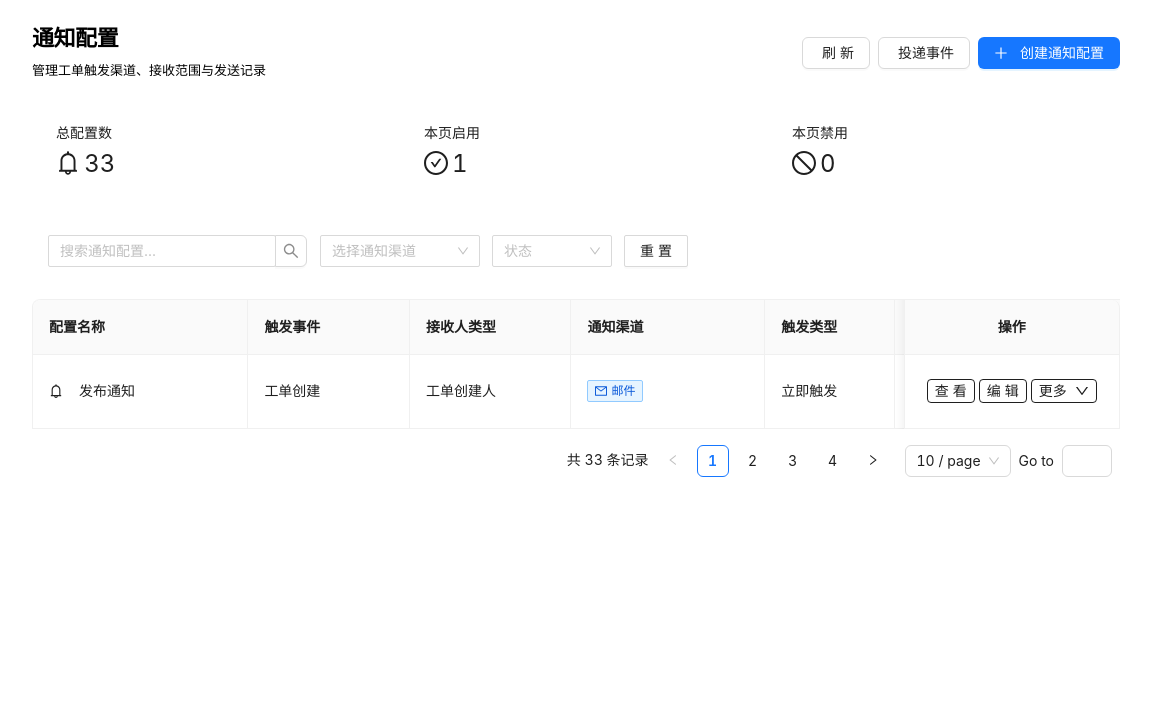
it: 通知配置真实控件 › 查询失败清旧数据并从页面重试恢复
The width and height of the screenshot is (1164, 720).
Click the button without text next to "选择通知渠道" at (291, 251), box [275,235,307,267]
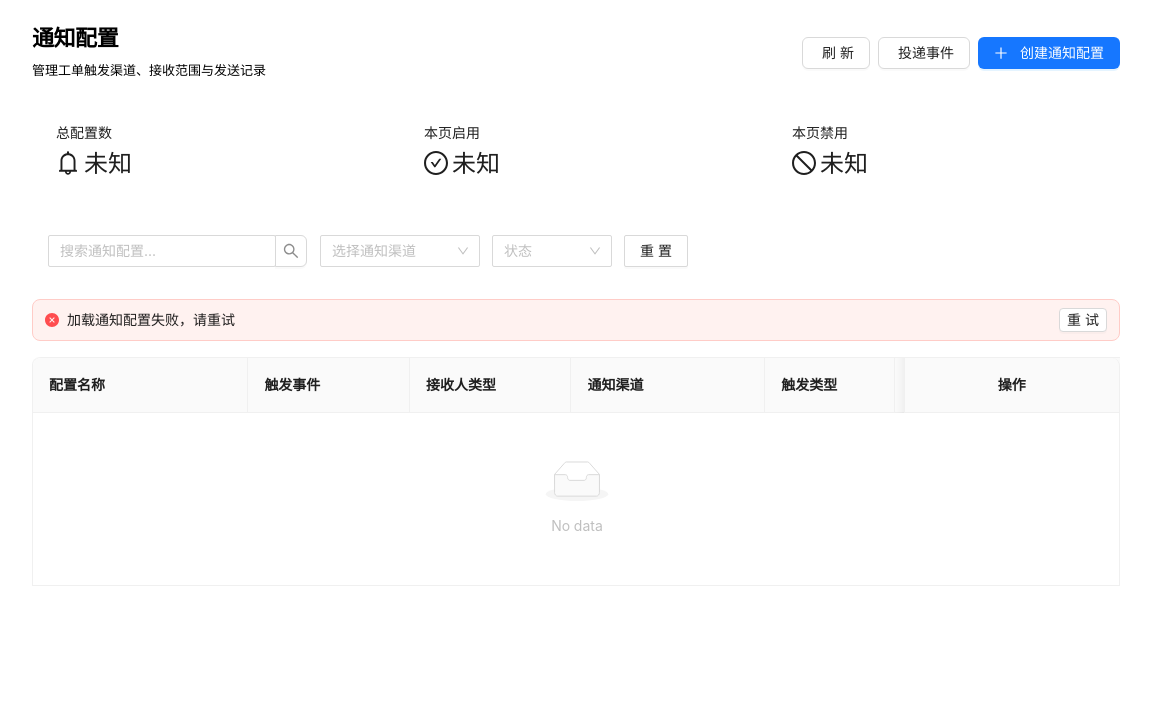
Expected: the message "加载通知配置失败，请重试 重 试" is shown, [32,299,1120,341]
Click the button "重 试" at (1083, 320), box [1059,308,1107,332]
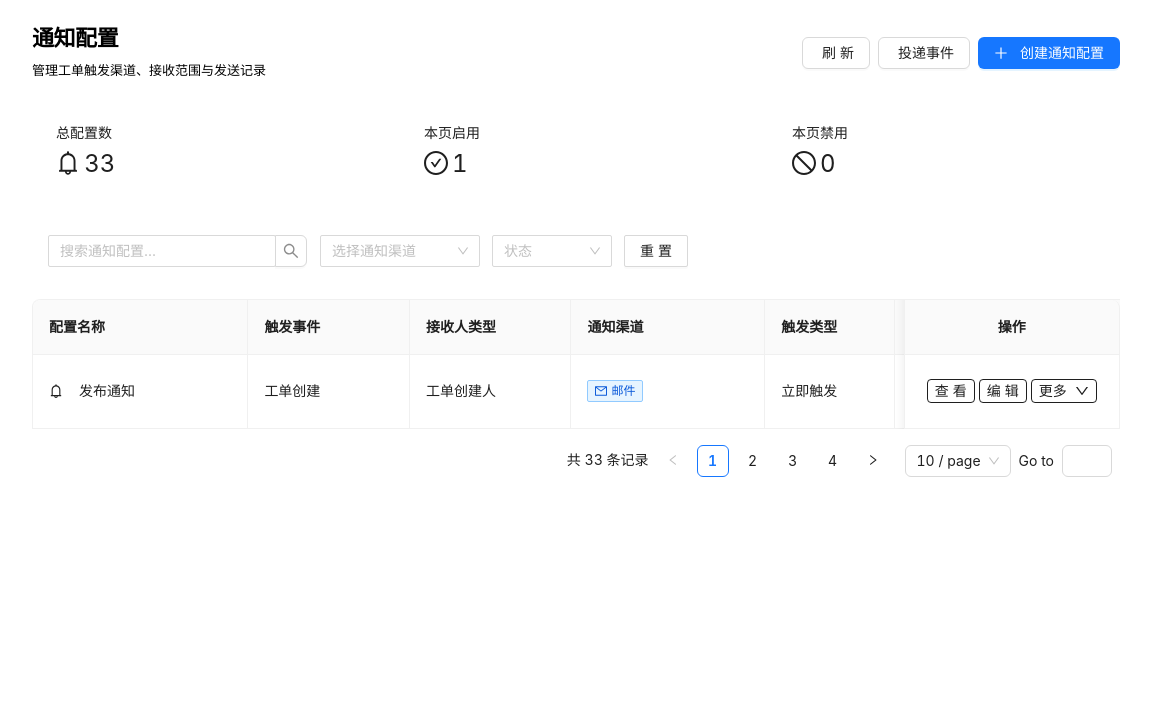
Expected: the text with class "name-text" reads "发布通知", [79,382,135,399]
